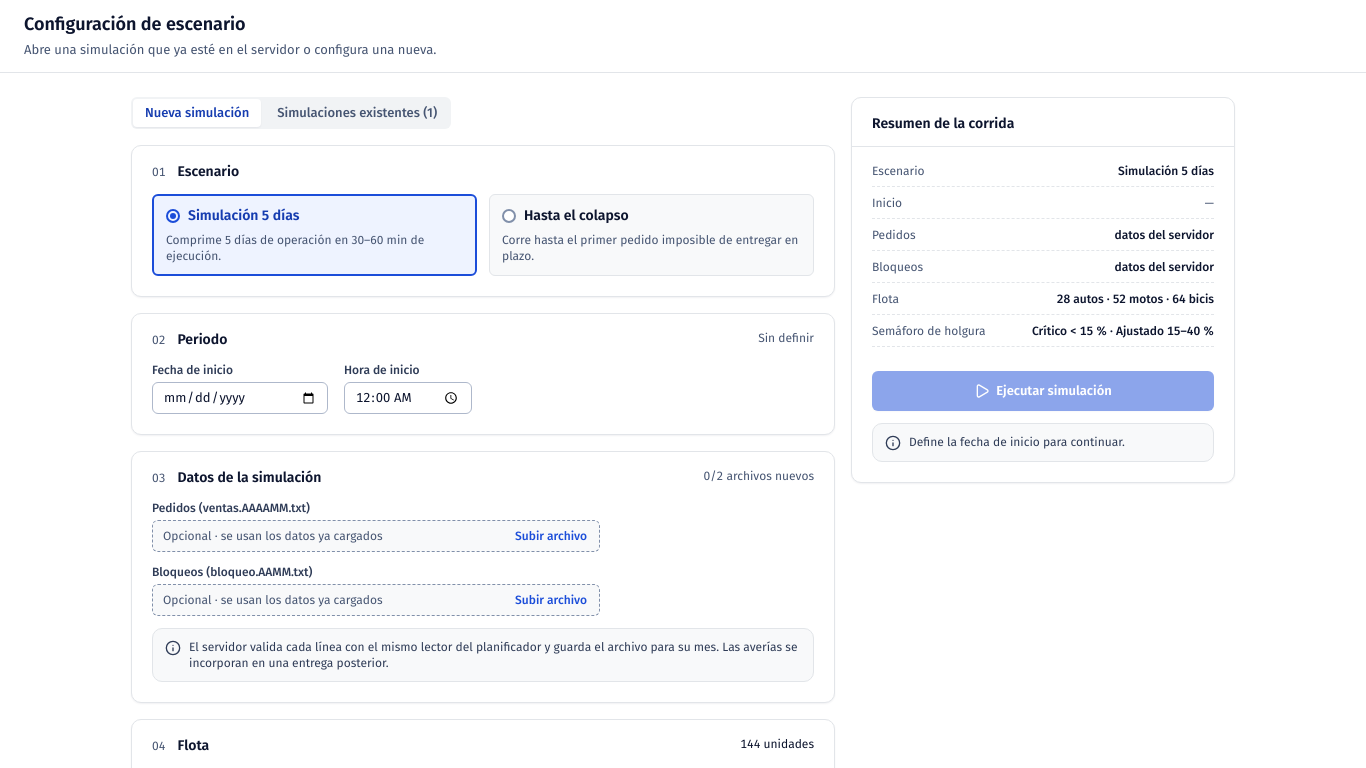
Test: ModuloSimulacion · corridas guardadas › en la lista, una corrida guardada se abre para ver su resultado
Click the tab "Simulaciones existentes (1)". click: (357, 113)
box: [265,99,449,127]
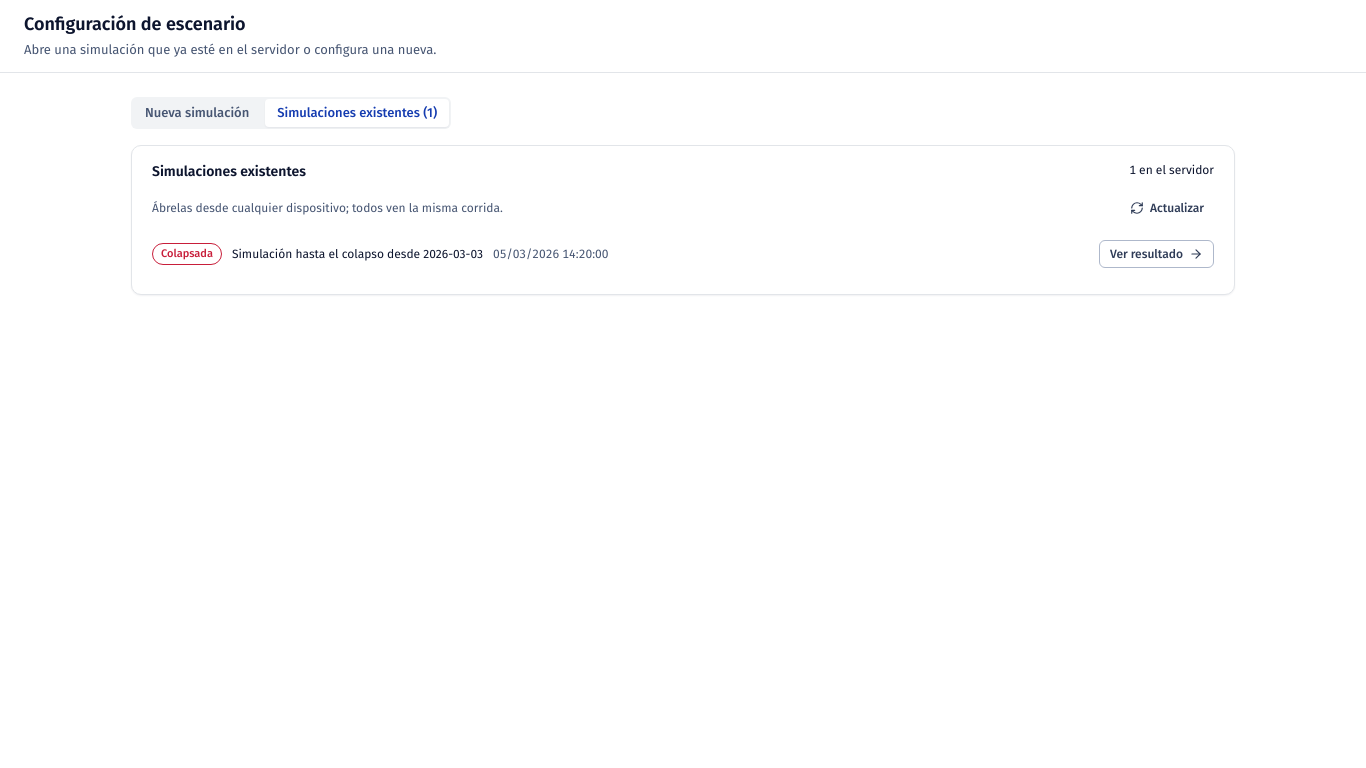
Click the button "Ver resultado". click: (1156, 254)
box: [1099,240,1214,268]
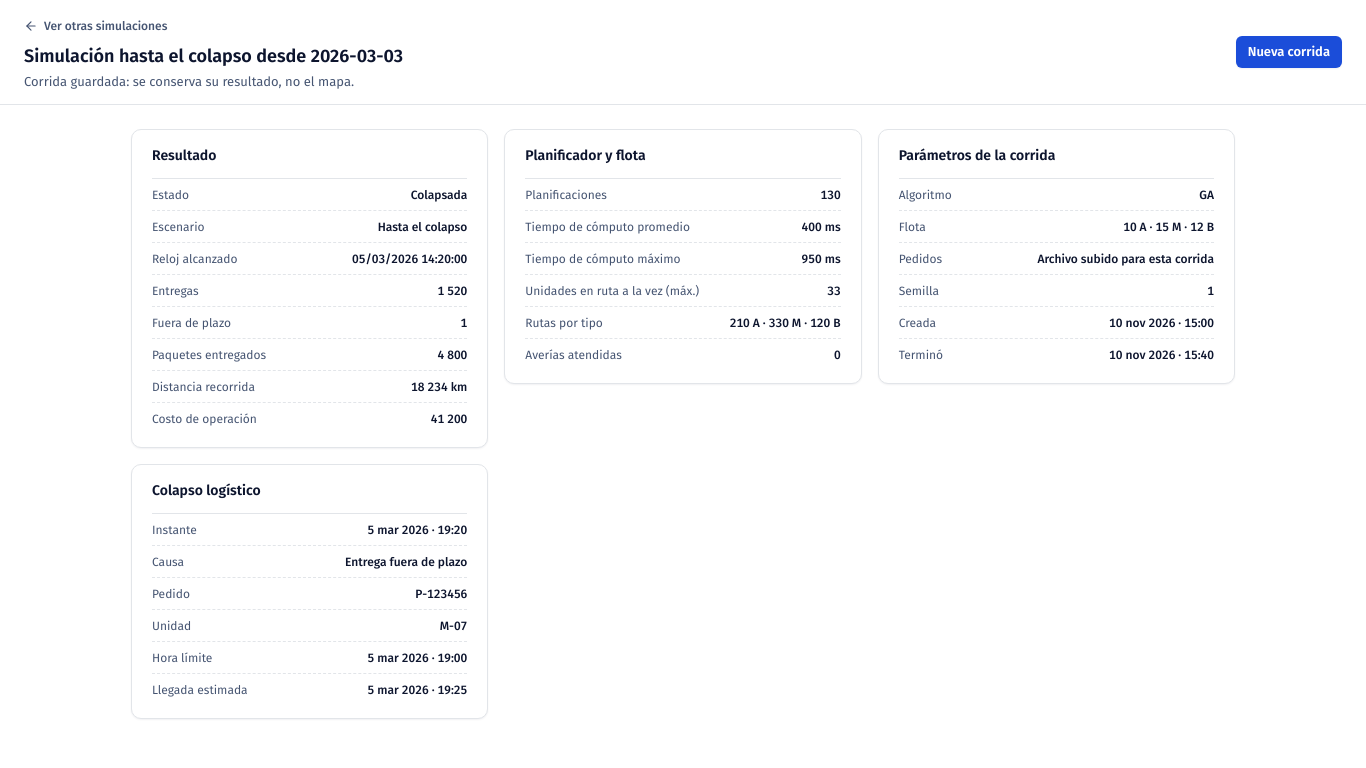
Now the text "Corrida guardada: se conserva su resultado, no el mapa." is shown, box [24,74,354,89]
Now the text "P-123456" is shown, box [415,586,467,602]
Now the text "Entrega fuera de plazo" is shown, box [345,554,467,570]
